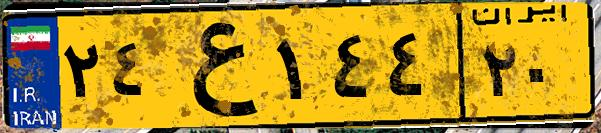0: (525, 38, 570, 115)
1: (270, 28, 330, 110)
2: (57, 26, 110, 100), (475, 38, 525, 113)
4: (385, 28, 445, 110), (330, 28, 385, 110), (110, 28, 158, 98)
ع: (158, 12, 270, 120)
